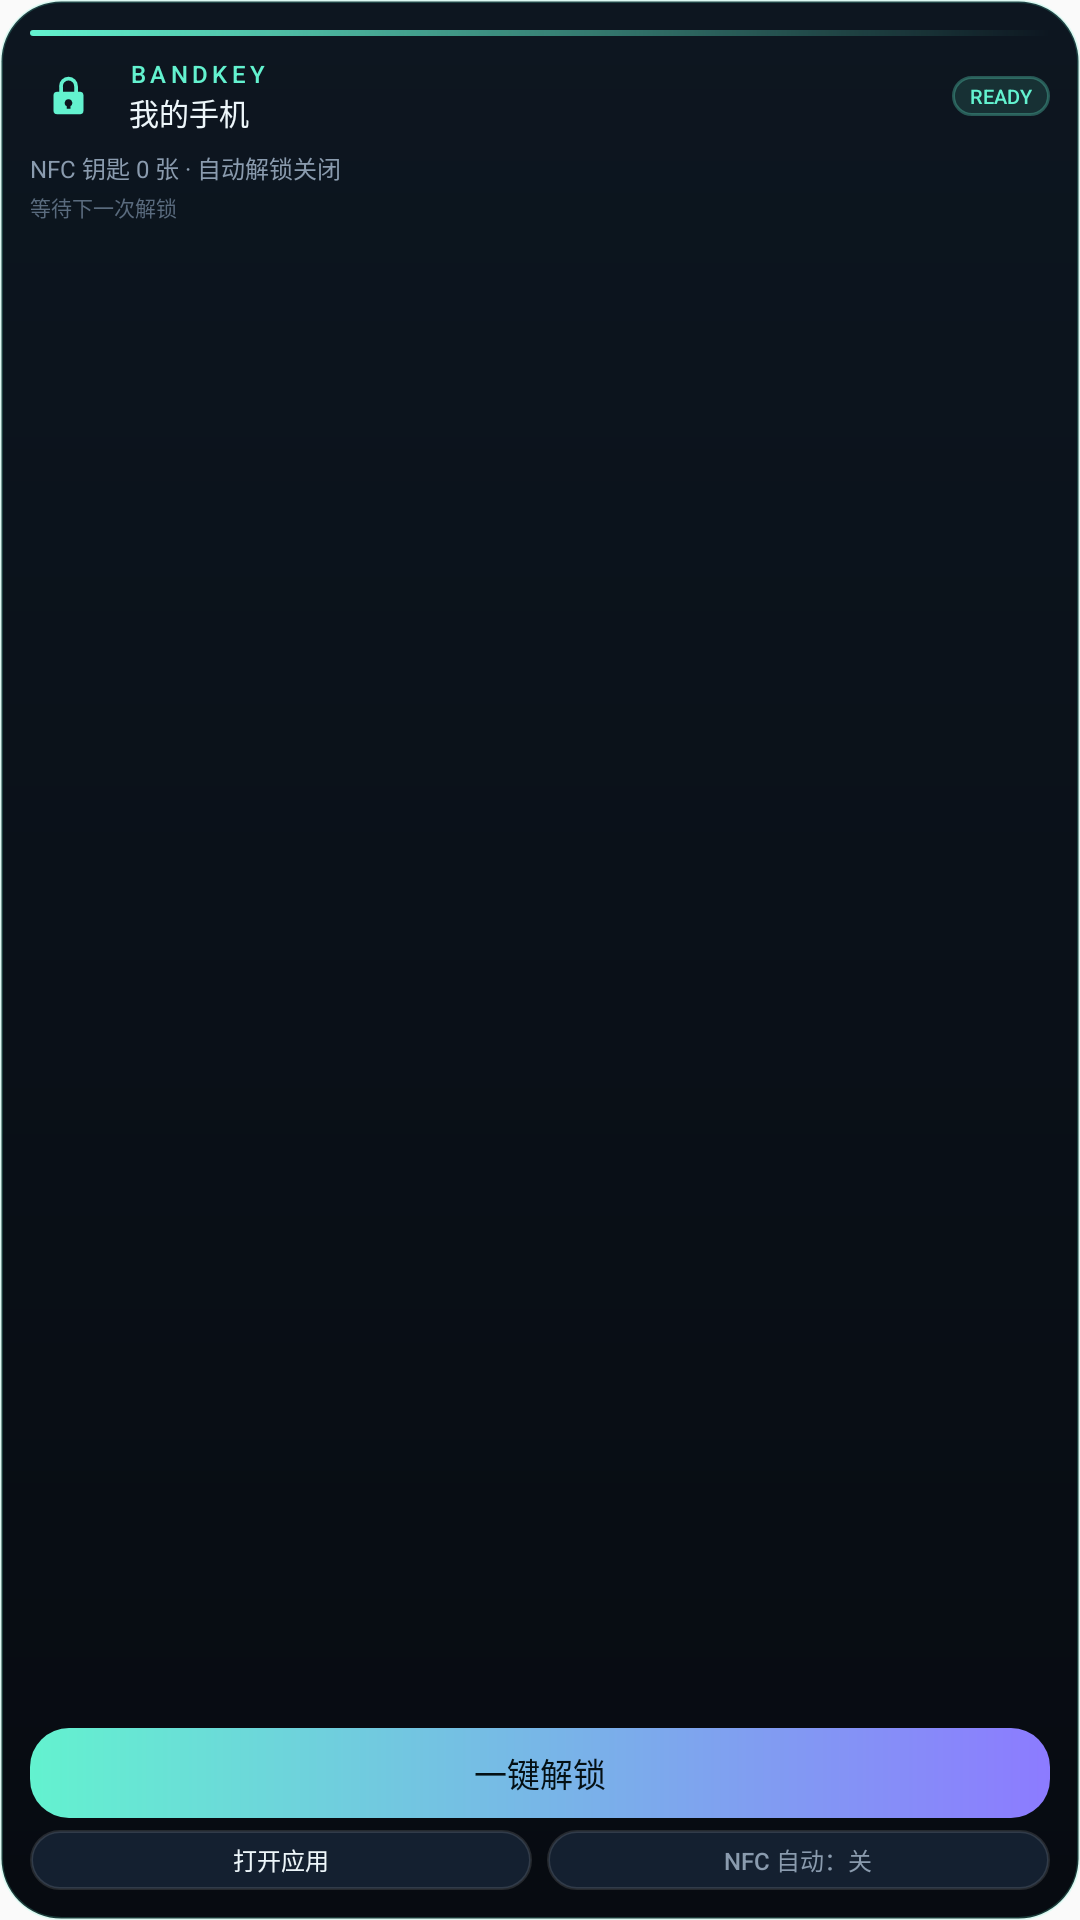

Icons on this 1080*1920 Android screen, each with its box as [left=x1, top=y1, right=x2, bottom=y2]:
widget lock: [left=53, top=76, right=84, bottom=115]
